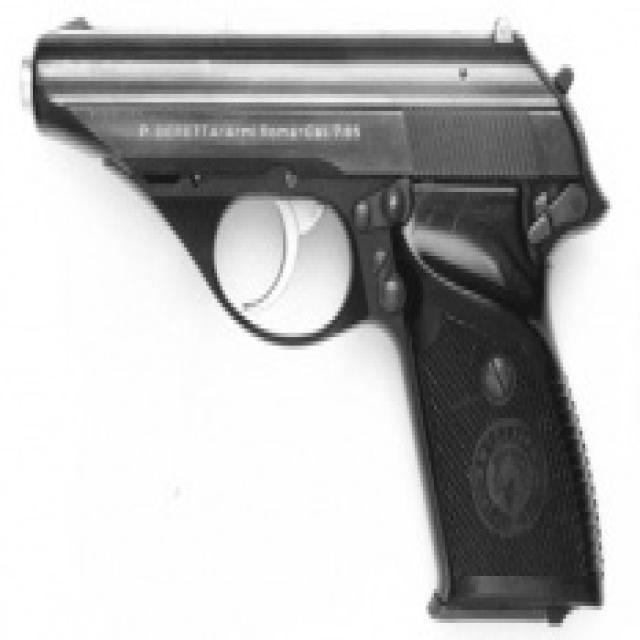pistol: (16, 9, 618, 637)
